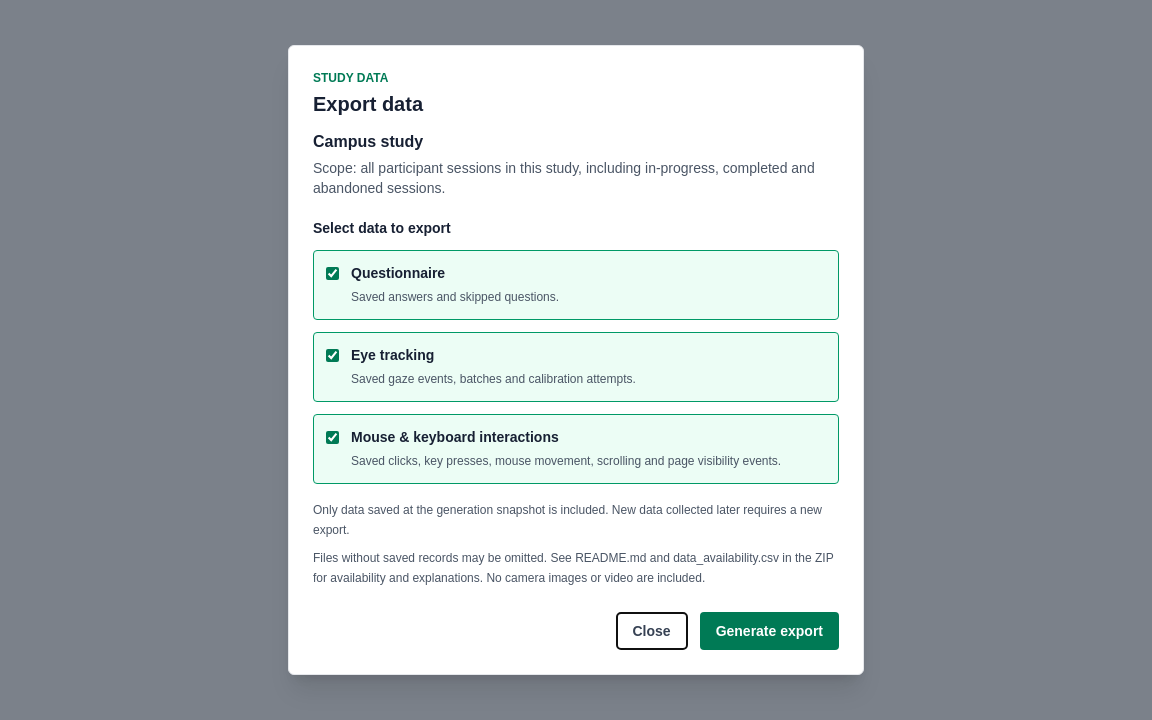
Test: Study export dialog › prevents duplicate creation while the initial request is pending
Click the button "Generate export": (769, 631) x1=700 y1=612 x2=839 y2=650
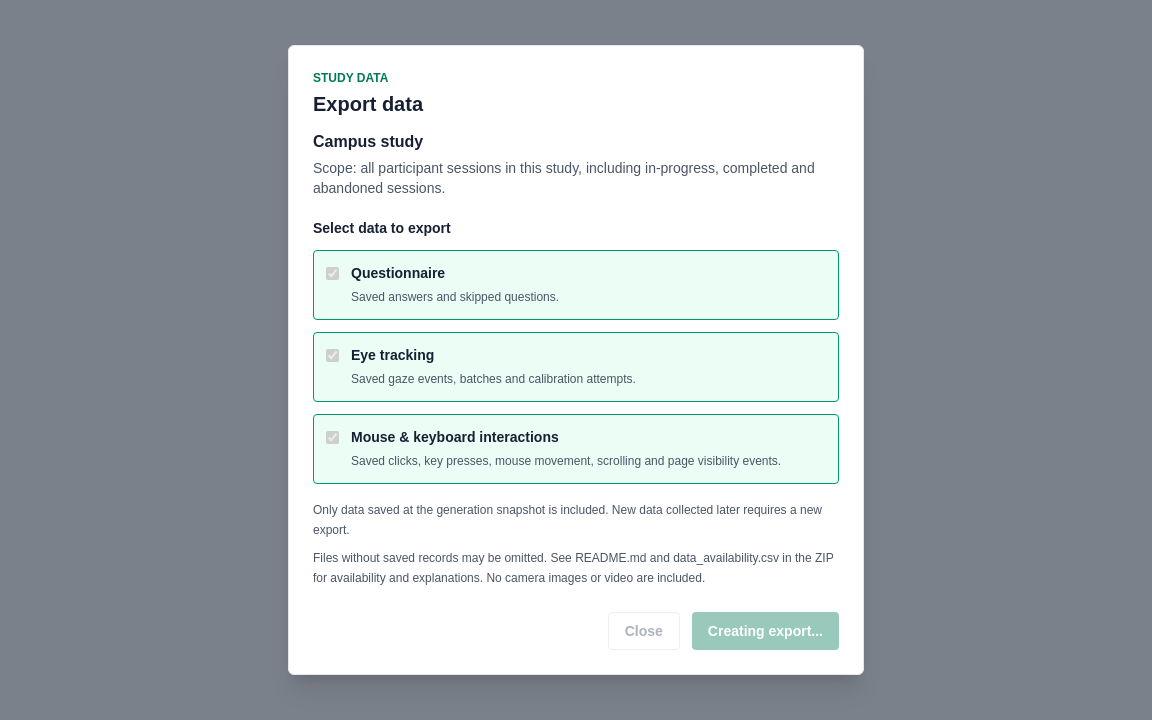
Check: the button "Creating export..." is disabled
Click the button "Creating export...": (765, 631) x1=692 y1=612 x2=839 y2=650
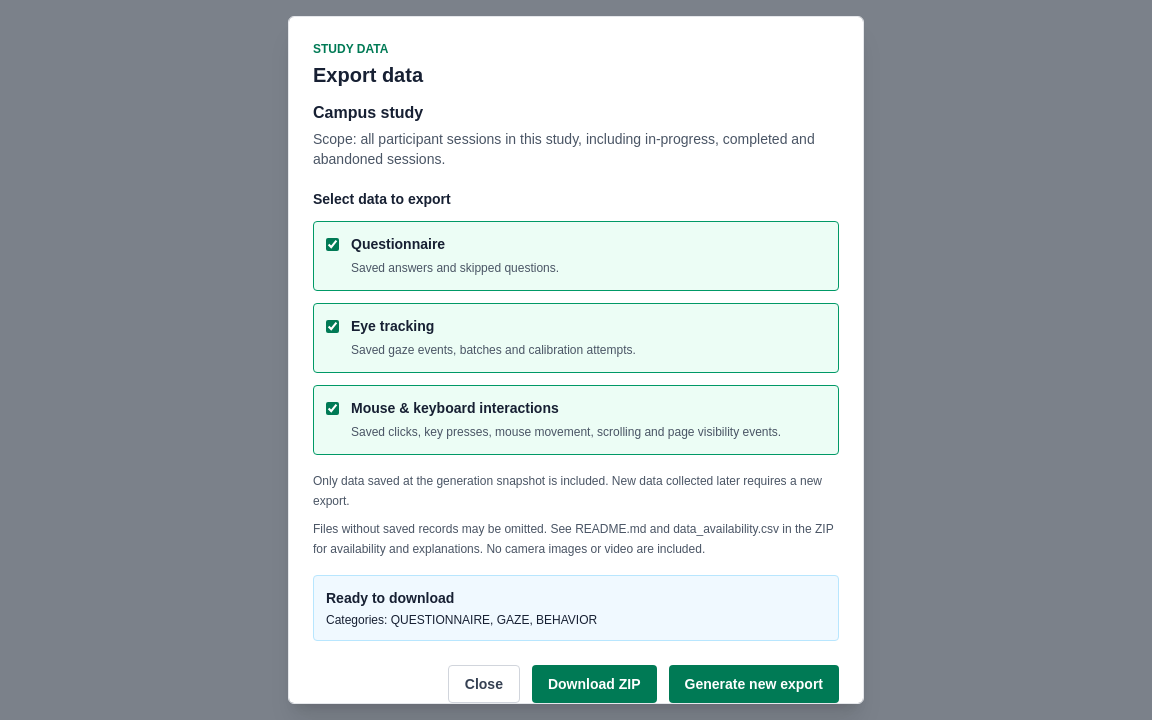
Check: the text "Ready to download" is shown, box x1=326 y1=590 x2=454 y2=606
